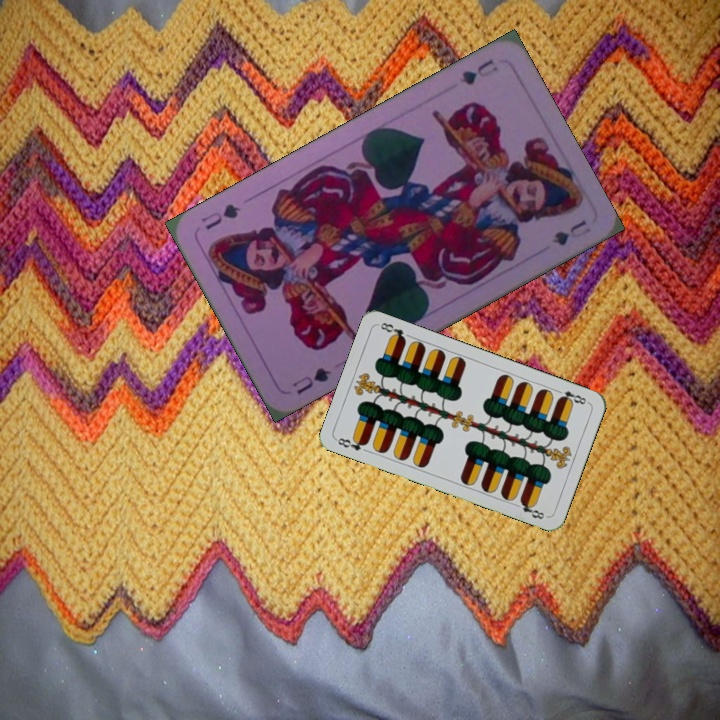E8: (552, 385, 591, 407), (333, 433, 370, 453)
GU: (288, 363, 334, 397), (455, 55, 501, 88)
